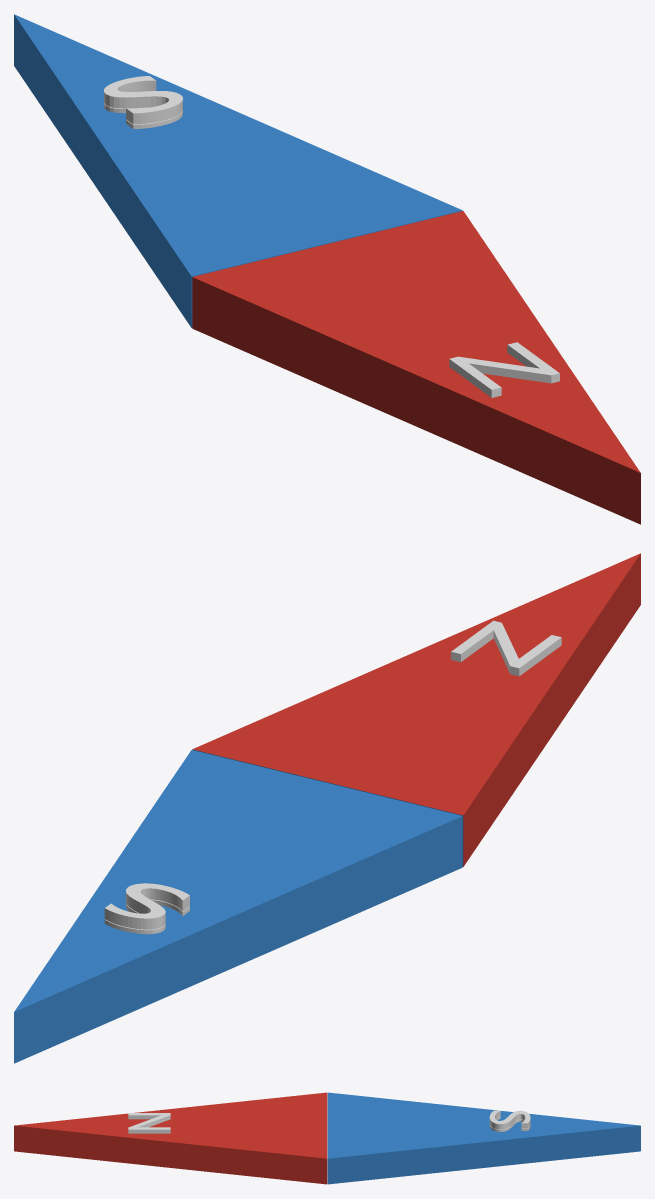
File: brujula.fbx
The picture shows the model from 3 angles, top to bottom: view 1: azimuth 30°, elevation 25°; view 2: azimuth 150°, elevation 25°; view 3: azimuth 270°, elevation 25°; orthographic projection. The views are drawn at different scales.
Parts seen in each view (by area): view 1: Text; view 2: Text; view 3: Text.
Part boxes in pixels (x1=…): Text: x1=14, y1=14, x2=640, y2=524; Text: x1=14, y1=553, x2=640, y2=1063; Text: x1=14, y1=1092, x2=640, y2=1184.
Size of the model in its own units: 100 by 23.72 by 400.
